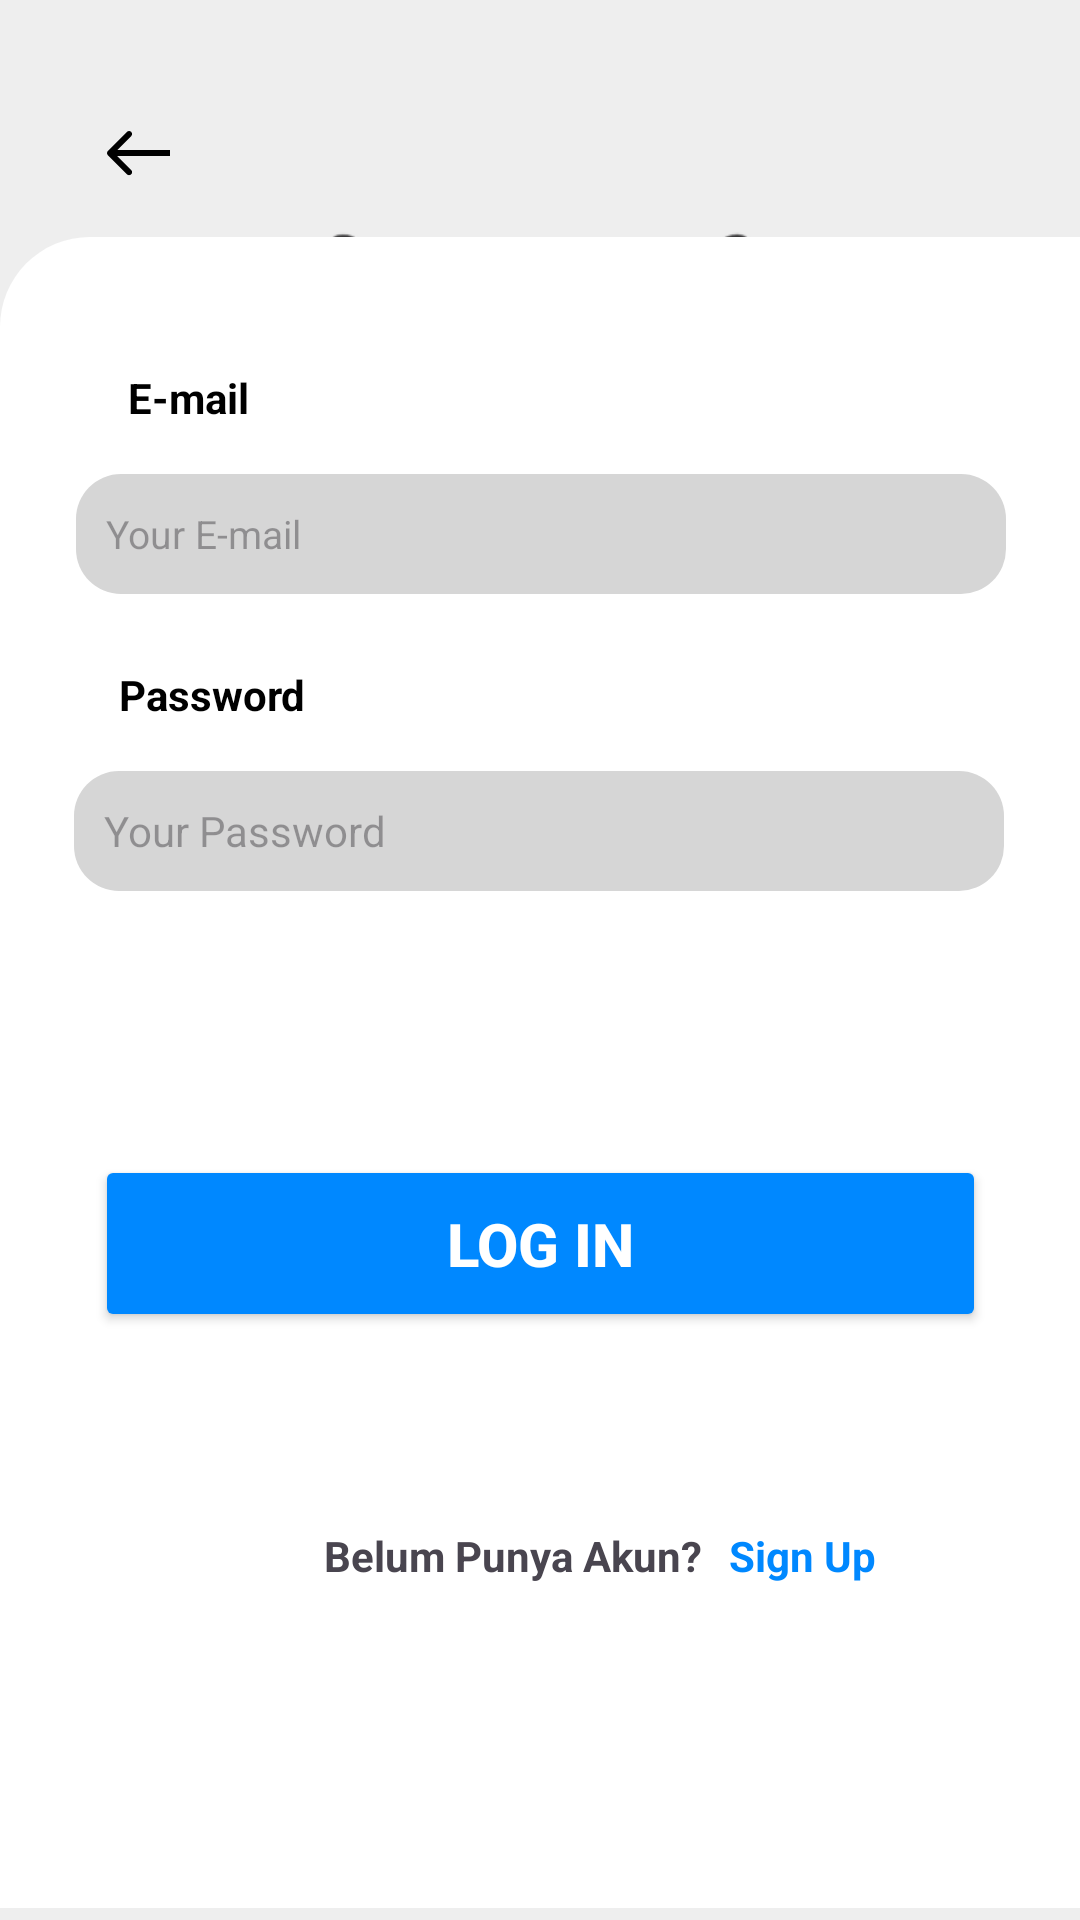

Named icons in this screenshot (1080x1920) and their centers, (x=x, y=y):
arrow res: (x=138, y=153)
